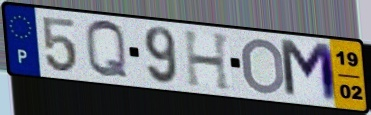5: (39, 14, 80, 74)
9: (143, 25, 182, 86)
H: (181, 29, 234, 94)
M: (277, 36, 342, 106)
O: (240, 36, 287, 96)
Q: (83, 18, 131, 81)
